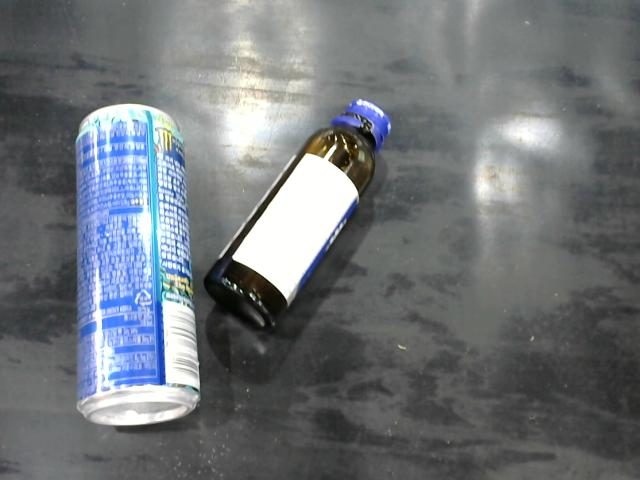trash: (205, 88, 412, 349), (65, 94, 202, 450)
